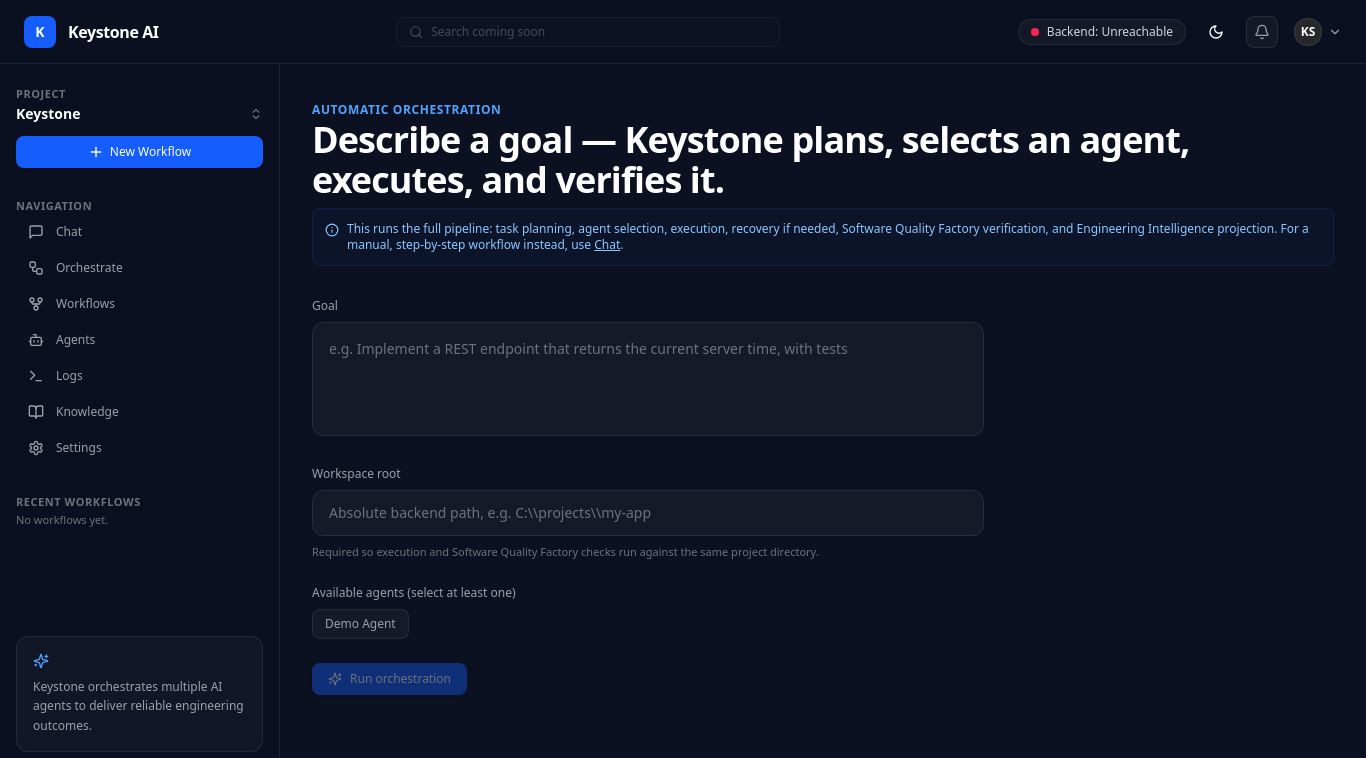
Test: OrchestratePage › submits the goal and selected agents, then shows the terminal outcome
The width and height of the screenshot is (1366, 758).
Type "Implement a REST endpoint with tests" into the text box labelled "Goal".
click(648, 379); type("Implement a REST endpoint with tests")  # box [312,322,984,436]
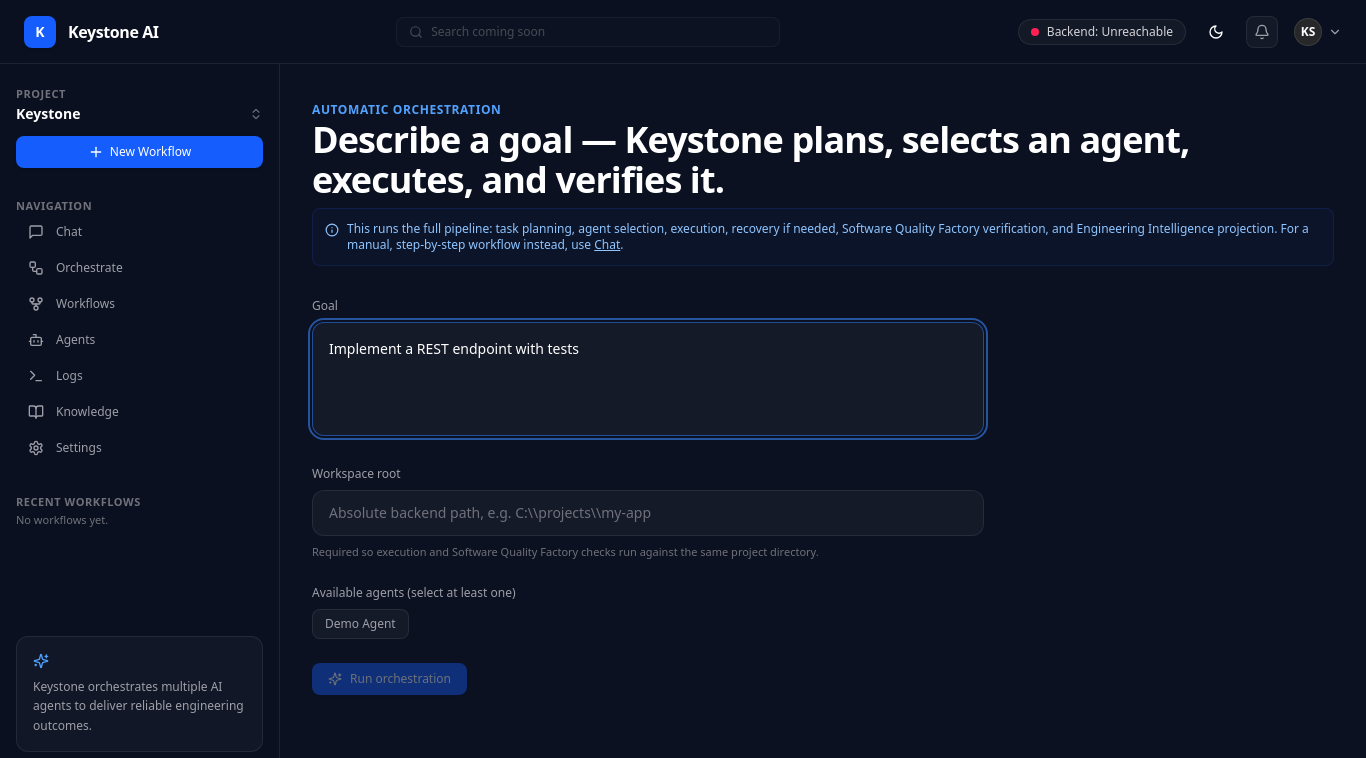
Type "C:\\projects\\demo" into the field labelled "Workspace root".
click(648, 513); type("C:\\projects\\demo")  # box [312,490,984,536]
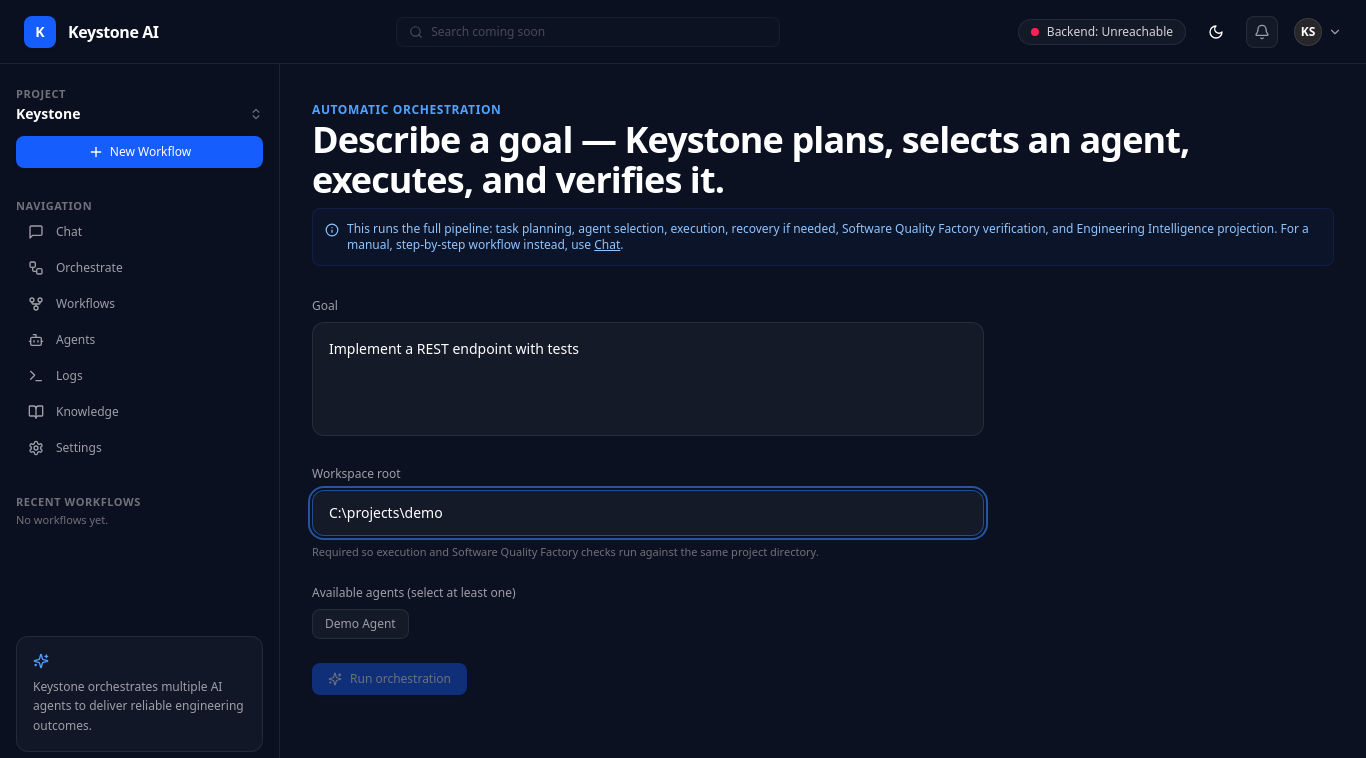
Click the button "Demo Agent".
click(360, 624)  # box [312,608,409,638]
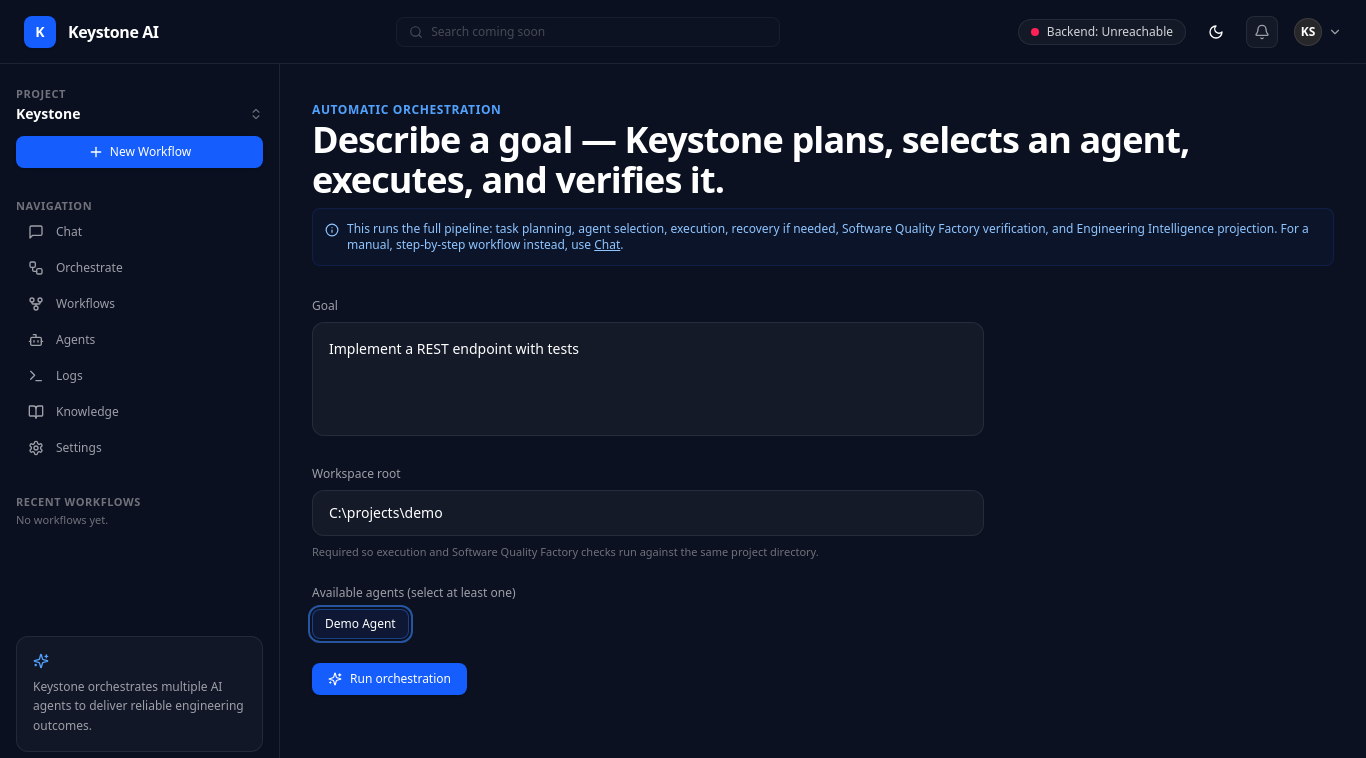
Click the button "Run orchestration".
click(390, 678)  # box [312,662,467,694]
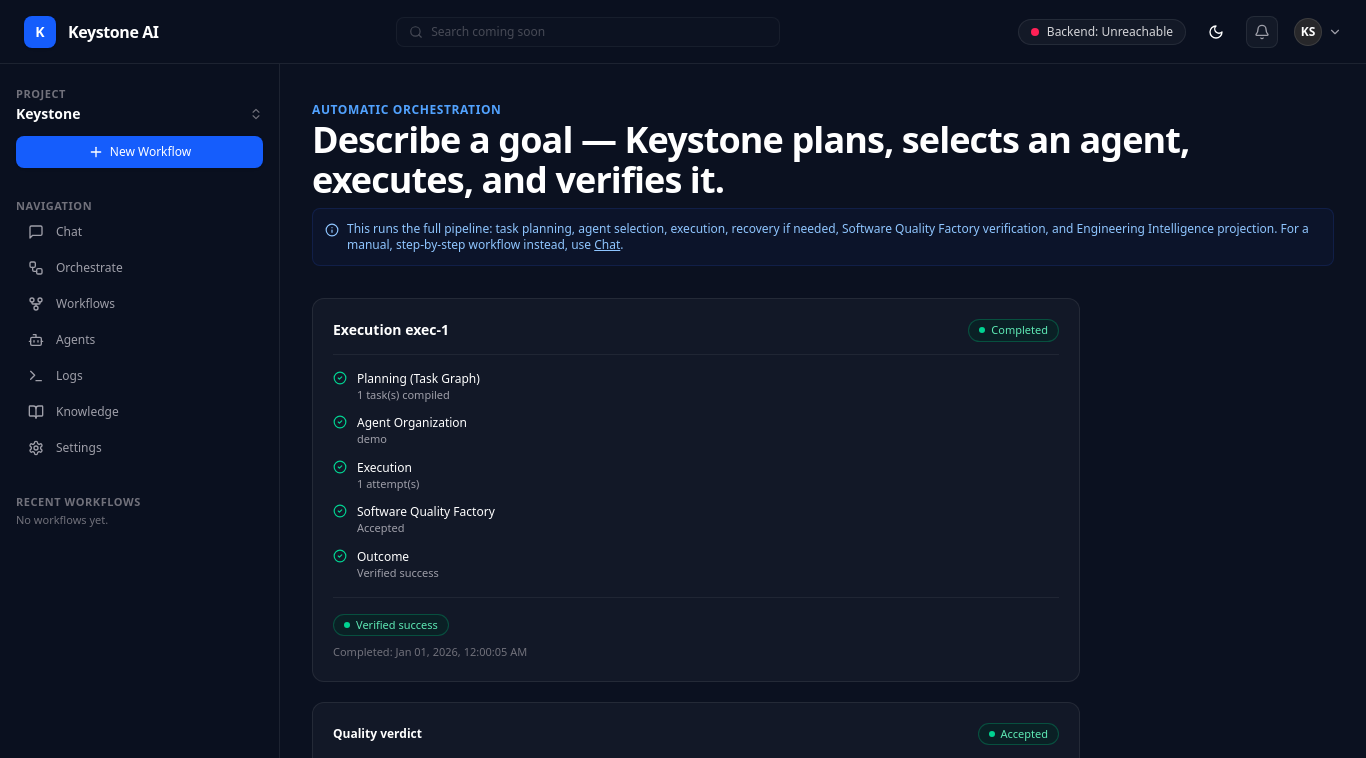
Check: the text "Verified success" below "1 attempt(s)" is shown, box [357,564,439,580]
Check: the text "Completed" is shown, box [991,322,1048,338]
